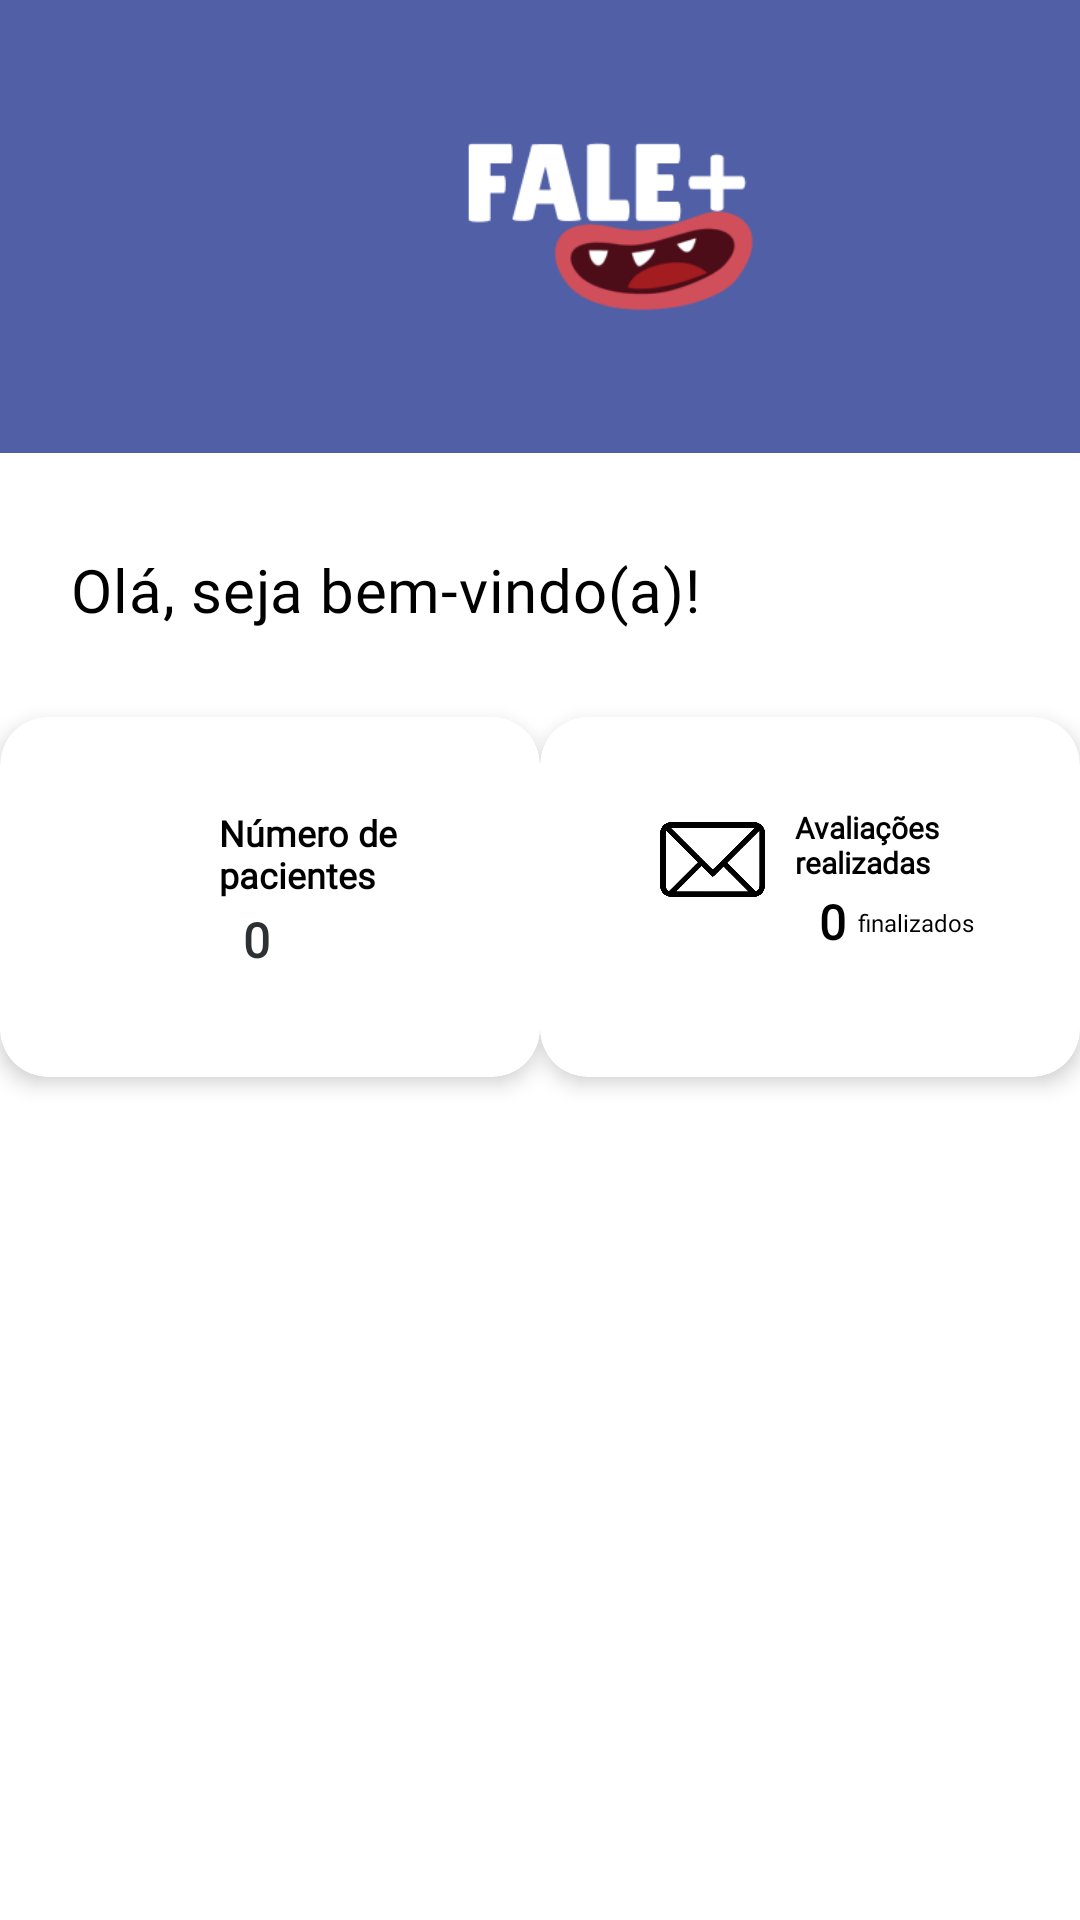

Point at icon controls on the screen. Image size 1080px x 1920px, points as point (x, y).
email dialog: point (712, 859)
